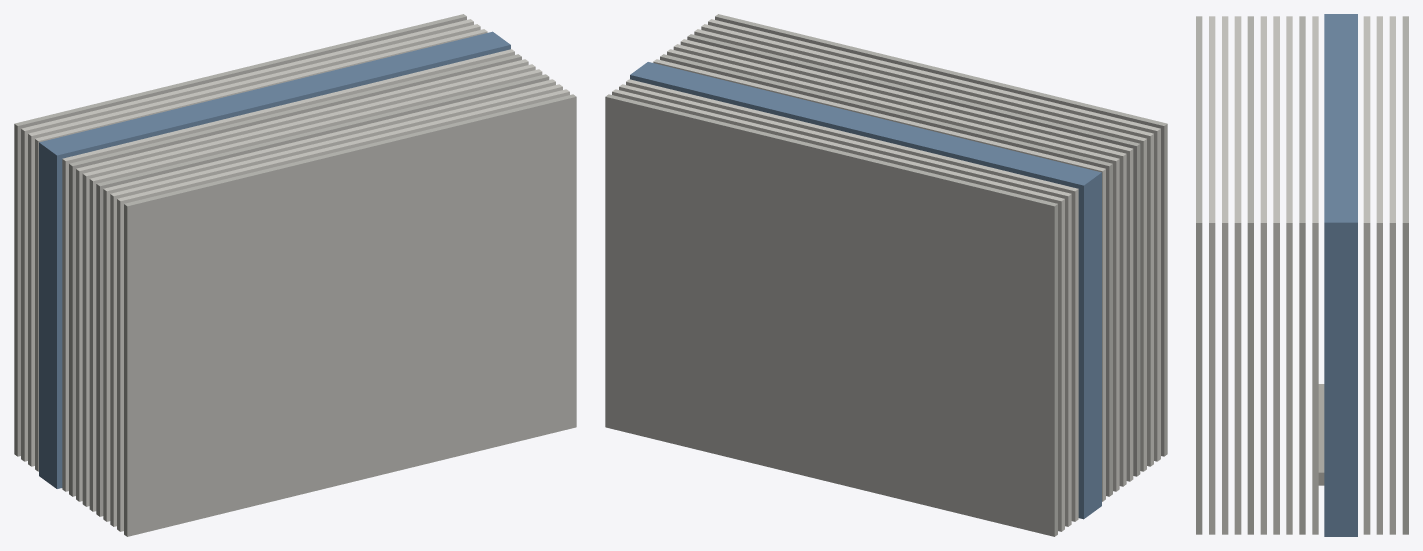
The picture shows the model from 3 angles, left to right: view 1: azimuth 30°, elevation 25°; view 2: azimuth 150°, elevation 25°; view 3: azimuth 270°, elevation 25°; orthographic projection. The views are drawn at different scales.
Visible parts, largest first — view 1: PR-011_016_IndividualPaperLayer_16_paper_side, PR-011_017_ReamBindingBlueBand_blue, PR-011_010_IndividualPaperLayer_10_paper, PR-011_011_IndividualPaperLayer_11_paper, PR-011_012_IndividualPaperLayer_12_paper_side, PR-011_013_IndividualPaperLayer_13_paper, PR-011_007_IndividualPaperLayer_7_paper, PR-011_009_IndividualPaperLayer_9_paper, PR-011_008_IndividualPaperLayer_8_paper_side, PR-011_015_IndividualPaperLayer_15_paper, PR-011_000_IndividualPaperLayer_0_paper_side, PR-011_001_IndividualPaperLayer_1_paper (+3 smaller); view 2: PR-011_000_IndividualPaperLayer_0_paper_side, PR-011_017_ReamBindingBlueBand_blue, PR-011_010_IndividualPaperLayer_10_paper, PR-011_011_IndividualPaperLayer_11_paper, PR-011_012_IndividualPaperLayer_12_paper_side, PR-011_003_IndividualPaperLayer_3_paper, PR-011_009_IndividualPaperLayer_9_paper, PR-011_008_IndividualPaperLayer_8_paper_side, PR-011_001_IndividualPaperLayer_1_paper, PR-011_016_IndividualPaperLayer_16_paper_side, PR-011_002_IndividualPaperLayer_2_paper, PR-011_013_IndividualPaperLayer_13_paper (+3 smaller); view 3: PR-011_017_ReamBindingBlueBand_blue, PR-011_003_IndividualPaperLayer_3_paper, PR-011_013_IndividualPaperLayer_13_paper, PR-011_000_IndividualPaperLayer_0_paper_side, PR-011_001_IndividualPaperLayer_1_paper, PR-011_002_IndividualPaperLayer_2_paper, PR-011_007_IndividualPaperLayer_7_paper, PR-011_008_IndividualPaperLayer_8_paper_side, PR-011_009_IndividualPaperLayer_9_paper, PR-011_010_IndividualPaperLayer_10_paper, PR-011_011_IndividualPaperLayer_11_paper, PR-011_012_IndividualPaperLayer_12_paper_side (+4 smaller).
Part boxes in pixels (x1,y1,x2,y2): PR-011_016_IndividualPaperLayer_16_paper_side: (124,94,576,536); PR-011_017_ReamBindingBlueBand_blue: (39,31,510,488); PR-011_010_IndividualPaperLayer_10_paper: (82,64,535,506); PR-011_011_IndividualPaperLayer_11_paper: (89,69,542,511); PR-011_012_IndividualPaperLayer_12_paper_side: (96,74,549,516); PR-011_013_IndividualPaperLayer_13_paper: (103,79,555,521); PR-011_007_IndividualPaperLayer_7_paper: (62,49,514,491); PR-011_009_IndividualPaperLayer_9_paper: (76,59,528,501); PR-011_008_IndividualPaperLayer_8_paper_side: (69,54,521,496); PR-011_015_IndividualPaperLayer_15_paper: (117,89,569,531); PR-011_000_IndividualPaperLayer_0_paper_side: (14,14,466,456); PR-011_001_IndividualPaperLayer_1_paper: (21,19,473,461); PR-011_000_IndividualPaperLayer_0_paper_side: (605,94,1057,536); PR-011_017_ReamBindingBlueBand_blue: (630,62,1101,519); PR-011_010_IndividualPaperLayer_10_paper: (673,44,1126,486); PR-011_011_IndividualPaperLayer_11_paper: (680,39,1133,481); PR-011_012_IndividualPaperLayer_12_paper_side: (687,34,1140,476); PR-011_003_IndividualPaperLayer_3_paper: (626,79,1078,521); PR-011_009_IndividualPaperLayer_9_paper: (667,49,1119,491); PR-011_008_IndividualPaperLayer_8_paper_side: (660,54,1112,496); PR-011_001_IndividualPaperLayer_1_paper: (612,89,1064,531); PR-011_016_IndividualPaperLayer_16_paper_side: (715,14,1167,456); PR-011_002_IndividualPaperLayer_2_paper: (619,84,1071,526); PR-011_013_IndividualPaperLayer_13_paper: (694,29,1146,471); PR-011_017_ReamBindingBlueBand_blue: (1324,14,1357,536); PR-011_003_IndividualPaperLayer_3_paper: (1363,16,1370,534); PR-011_013_IndividualPaperLayer_13_paper: (1234,16,1241,534); PR-011_000_IndividualPaperLayer_0_paper_side: (1402,16,1408,534); PR-011_001_IndividualPaperLayer_1_paper: (1389,16,1395,534); PR-011_002_IndividualPaperLayer_2_paper: (1376,16,1382,534); PR-011_007_IndividualPaperLayer_7_paper: (1312,16,1318,534); PR-011_008_IndividualPaperLayer_8_paper_side: (1299,16,1305,534); PR-011_009_IndividualPaperLayer_9_paper: (1286,16,1292,534); PR-011_010_IndividualPaperLayer_10_paper: (1273,16,1279,534); PR-011_011_IndividualPaperLayer_11_paper: (1260,16,1266,534); PR-011_012_IndividualPaperLayer_12_paper_side: (1247,16,1253,534).
Bounding box in the file's own units: 0.306 × 0.221 × 0.132.
